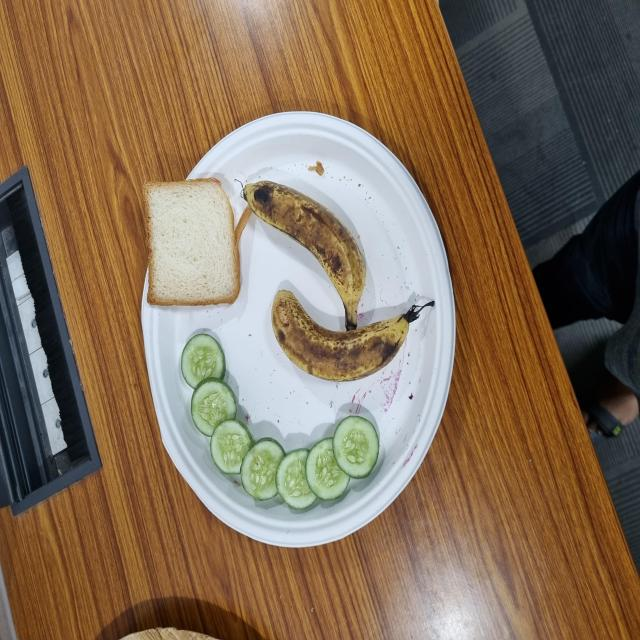banana: (242, 325, 346, 490), (192, 361, 265, 548)
cucumber: (118, 242, 232, 342), (103, 402, 151, 468), (121, 443, 169, 508), (101, 321, 151, 383), (99, 368, 143, 426)
